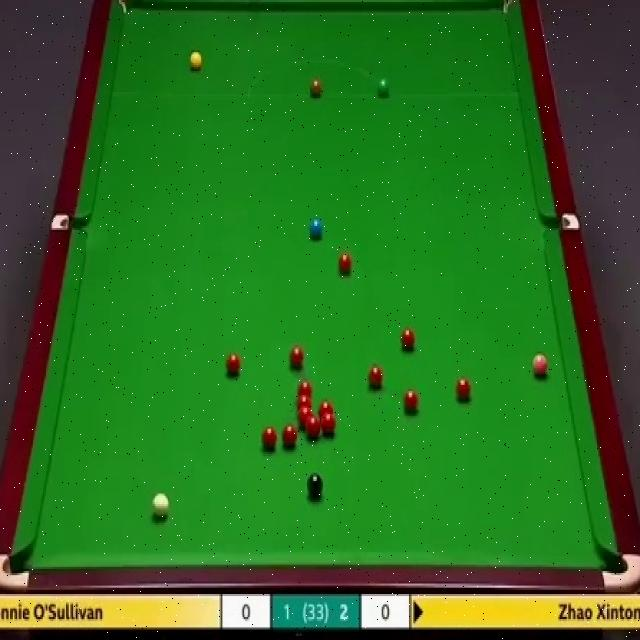black-ball: (307, 471, 323, 501)
blue-ball: (309, 218, 324, 240)
brown-ball: (309, 77, 323, 98)
green-ball: (376, 78, 391, 98)
pink-ball: (532, 352, 548, 378)
red-ball: (225, 351, 242, 380), (281, 422, 298, 451), (336, 250, 353, 276), (260, 425, 277, 450), (454, 378, 472, 401), (321, 412, 336, 438), (401, 326, 416, 352), (369, 365, 384, 390), (289, 345, 305, 367), (296, 402, 311, 425), (306, 415, 320, 439), (403, 390, 419, 410), (296, 394, 312, 411), (297, 381, 313, 394), (319, 402, 333, 416)
white-ball: (151, 491, 170, 522)
yellow-ball: (190, 52, 203, 73)
